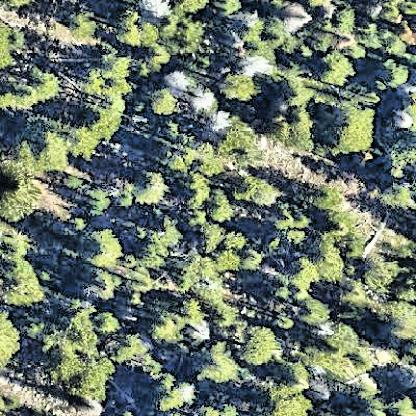tree-top: (1, 60, 63, 112), (267, 102, 322, 154), (308, 233, 357, 289), (331, 107, 383, 157), (0, 256, 49, 308), (144, 213, 192, 261), (194, 338, 243, 385), (150, 369, 197, 413), (128, 166, 172, 212), (238, 322, 281, 368), (358, 247, 404, 290), (85, 224, 126, 271), (111, 5, 151, 50), (324, 318, 368, 357), (238, 174, 280, 213), (0, 180, 38, 223), (35, 130, 71, 173), (149, 306, 187, 346), (386, 296, 416, 344), (219, 70, 261, 104), (1, 306, 24, 368), (266, 388, 316, 416), (180, 169, 214, 208), (147, 82, 183, 118), (319, 51, 355, 87), (63, 316, 101, 350), (1, 20, 26, 71), (378, 176, 412, 212), (114, 328, 150, 362), (385, 136, 414, 177), (394, 90, 416, 141), (194, 221, 228, 254), (48, 339, 78, 376), (300, 294, 333, 327), (80, 360, 110, 395), (380, 61, 414, 91), (205, 190, 234, 224), (1, 144, 33, 174), (188, 85, 218, 116), (330, 4, 358, 36), (66, 124, 95, 154), (163, 141, 194, 168), (214, 123, 246, 148), (292, 111, 317, 143), (286, 258, 314, 286), (88, 110, 119, 135), (186, 317, 214, 344), (146, 41, 176, 66), (282, 79, 310, 105), (96, 308, 121, 336), (285, 356, 310, 384), (65, 15, 90, 42), (288, 4, 316, 28), (198, 154, 223, 180), (175, 263, 200, 289), (175, 0, 217, 15), (182, 19, 209, 42), (209, 304, 235, 327), (329, 214, 350, 242), (382, 1, 404, 27), (200, 401, 238, 416), (242, 248, 267, 270), (88, 191, 110, 216), (111, 54, 131, 81), (262, 24, 286, 46), (91, 280, 114, 302), (82, 68, 103, 92), (314, 187, 338, 208), (100, 74, 124, 94), (239, 25, 261, 46), (395, 392, 414, 416), (216, 0, 244, 16), (384, 35, 405, 56), (273, 313, 295, 333), (350, 46, 374, 64), (129, 275, 153, 292), (286, 229, 308, 247), (272, 117, 290, 138), (361, 29, 383, 45), (277, 211, 296, 229), (126, 291, 144, 309), (162, 17, 180, 34), (296, 210, 310, 230), (164, 124, 181, 140)
